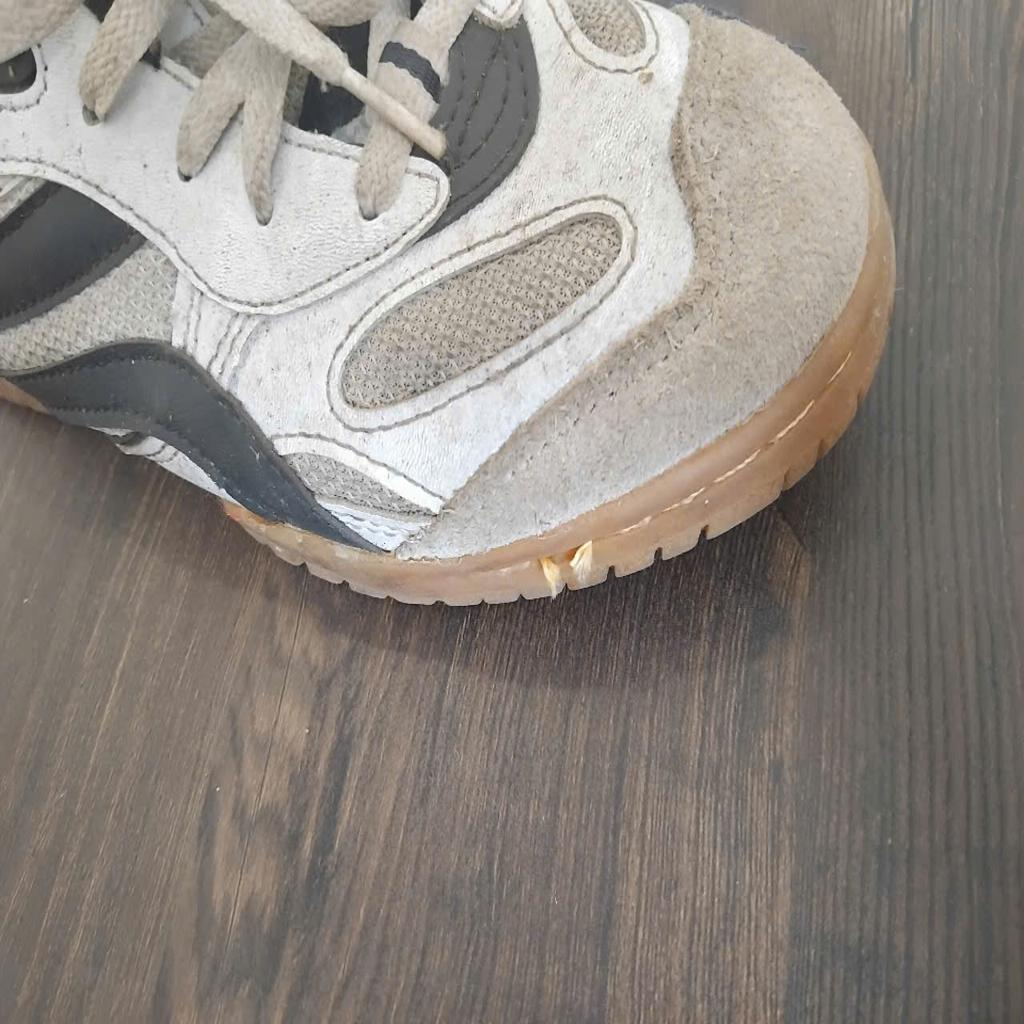broken: (538, 538, 594, 600)
